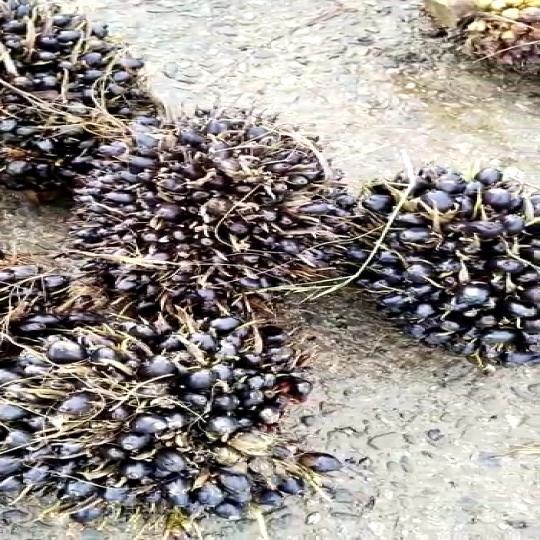mentah: (0, 301, 307, 520), (93, 93, 324, 296), (330, 154, 540, 367), (0, 0, 188, 197)
